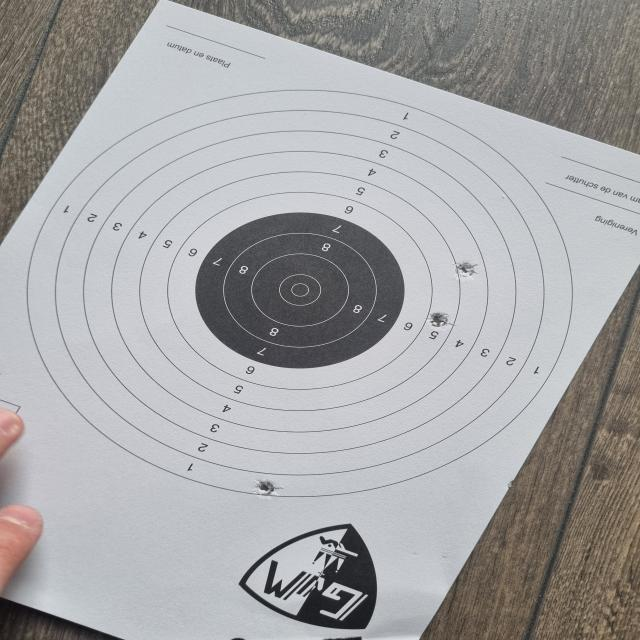1: (252, 479, 284, 496)
5: (452, 261, 479, 277)
6: (425, 312, 456, 328)
Target: (23, 86, 575, 499)
black_contour: (195, 212, 404, 368)
